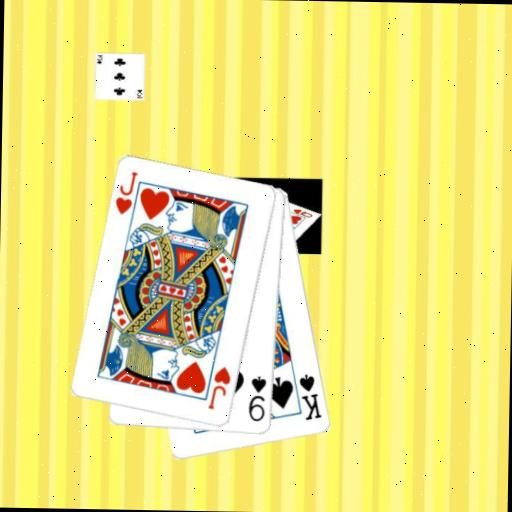9S: (245, 373, 268, 424)
JH: (205, 365, 233, 412), (113, 169, 140, 216)
KS: (296, 371, 324, 422)
